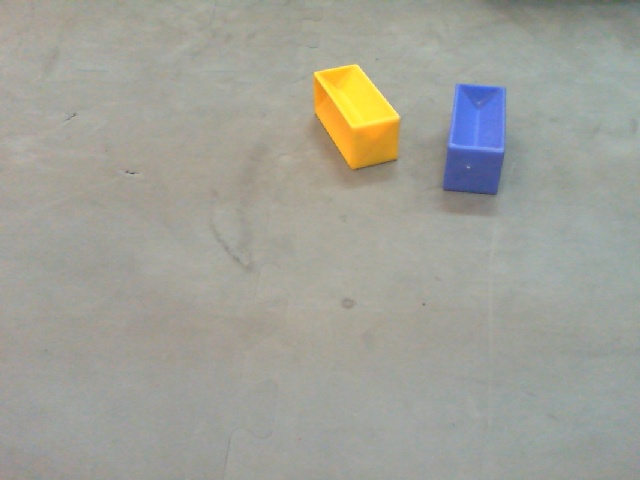BlueSample: (442, 84, 512, 200)
YellowSample: (310, 59, 404, 174)
